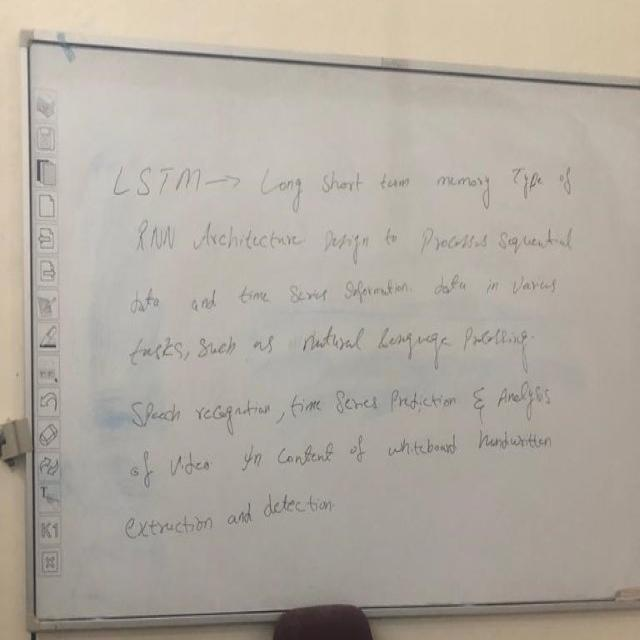White-board: (26, 36, 640, 635)
